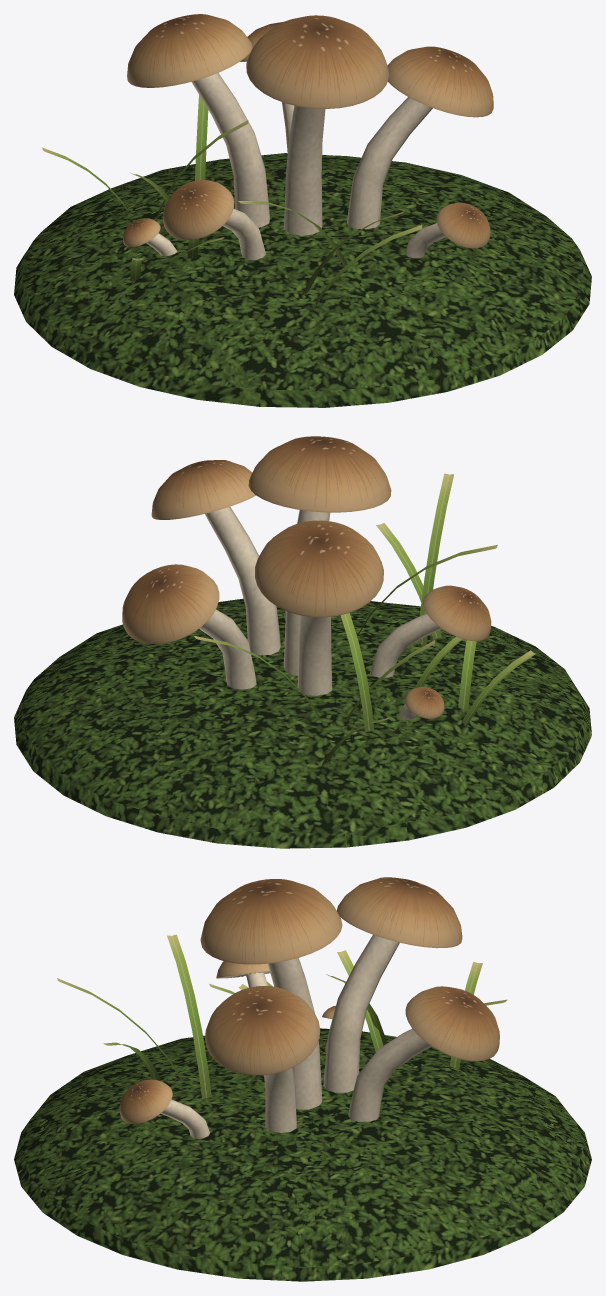
File: mushroom-cluster.glb
The picture shows the model from 3 angles, top to bottom: view 1: azimuth 30°, elevation 25°; view 2: azimuth 150°, elevation 25°; view 3: azimuth 270°, elevation 25°; orthographic projection.
Visible parts, largest first — view 1: Mushroom_Cluster; view 2: Mushroom_Cluster; view 3: Mushroom_Cluster.
Part boxes in pixels (x1,y1,x2,y2): Mushroom_Cluster: (14,14,591,407); Mushroom_Cluster: (14,436,591,848); Mushroom_Cluster: (14,877,591,1281).
Size of the model in its own units: 0.34 by 0.176 by 0.34.
Materials: 5 (5 with a texture image).
